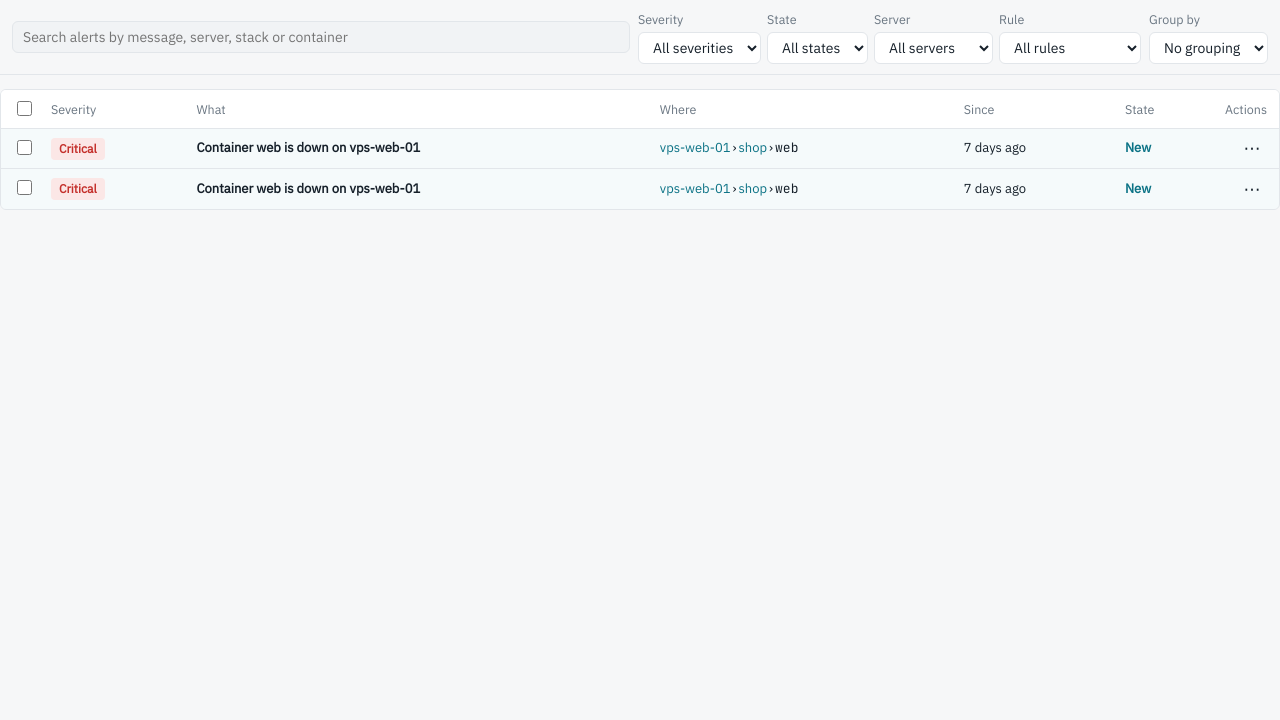
Inbox › creates one bulk silence for a repeated scope
This screenshot has width=1280, height=720.
Click the checkbox named "Select all" at (24, 109), box [17,101,32,116]
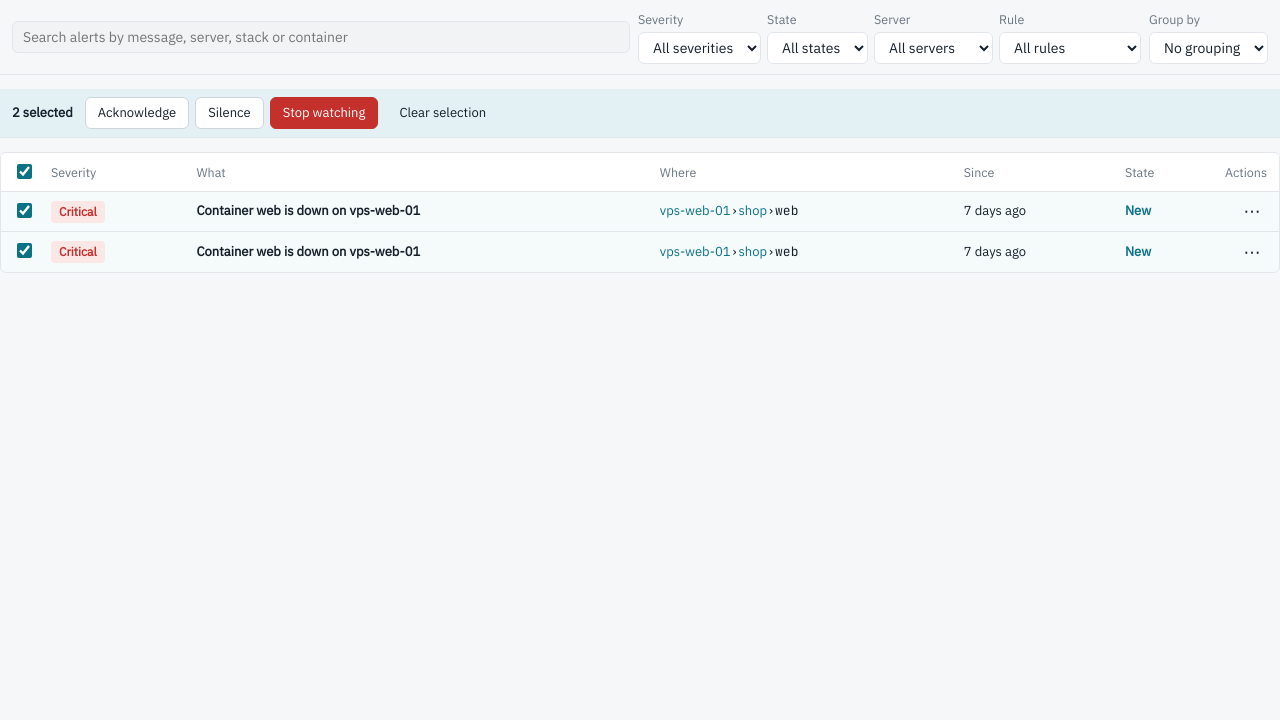
Click the button "Silence" at (229, 113), box [195,97,264,129]
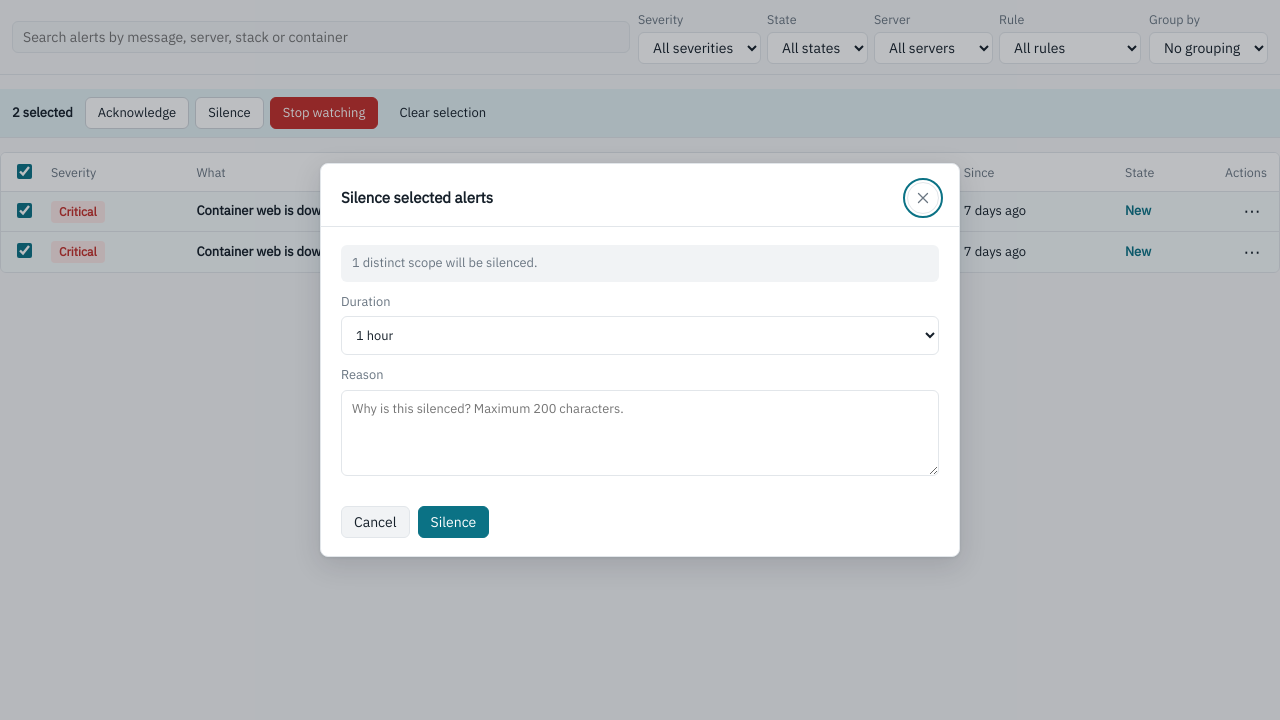
Type "maintenance" into the text box labelled "Reason" at (640, 433), box [341,390,939,476]
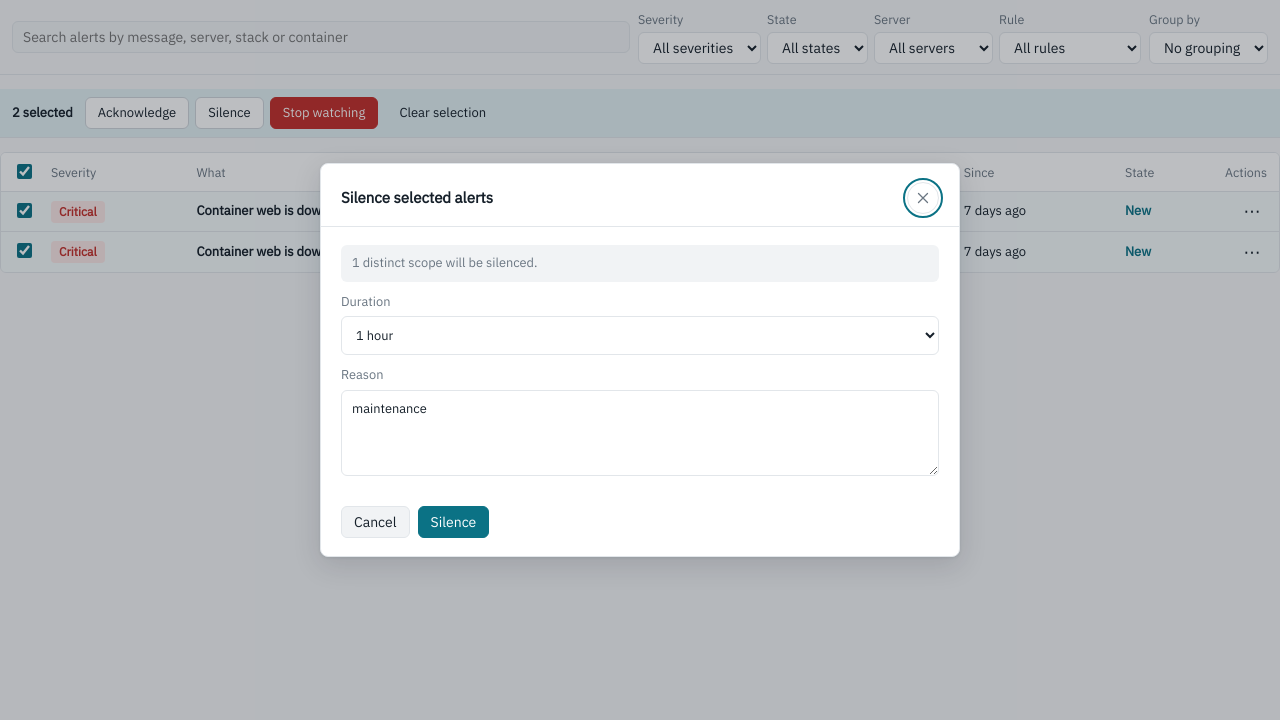
Click the button "Silence" at (453, 522), box [418,506,489,538]
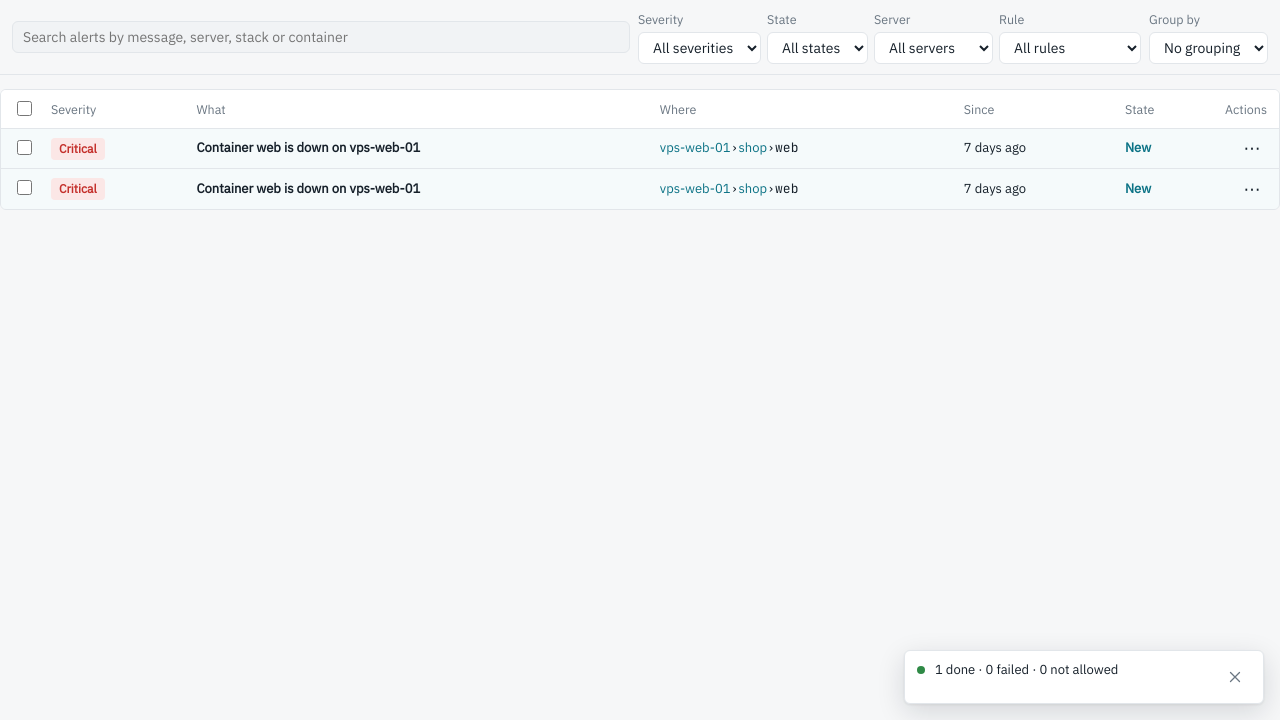
Result: the text "1 done · 0 failed · 0 not allowed" is shown at [935,661,1118,678]
